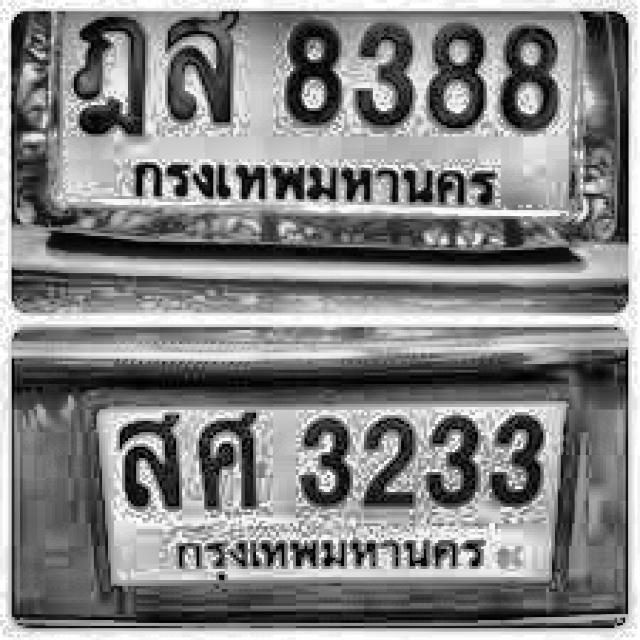license-plate: (37, 9, 619, 268), (49, 357, 589, 617)
